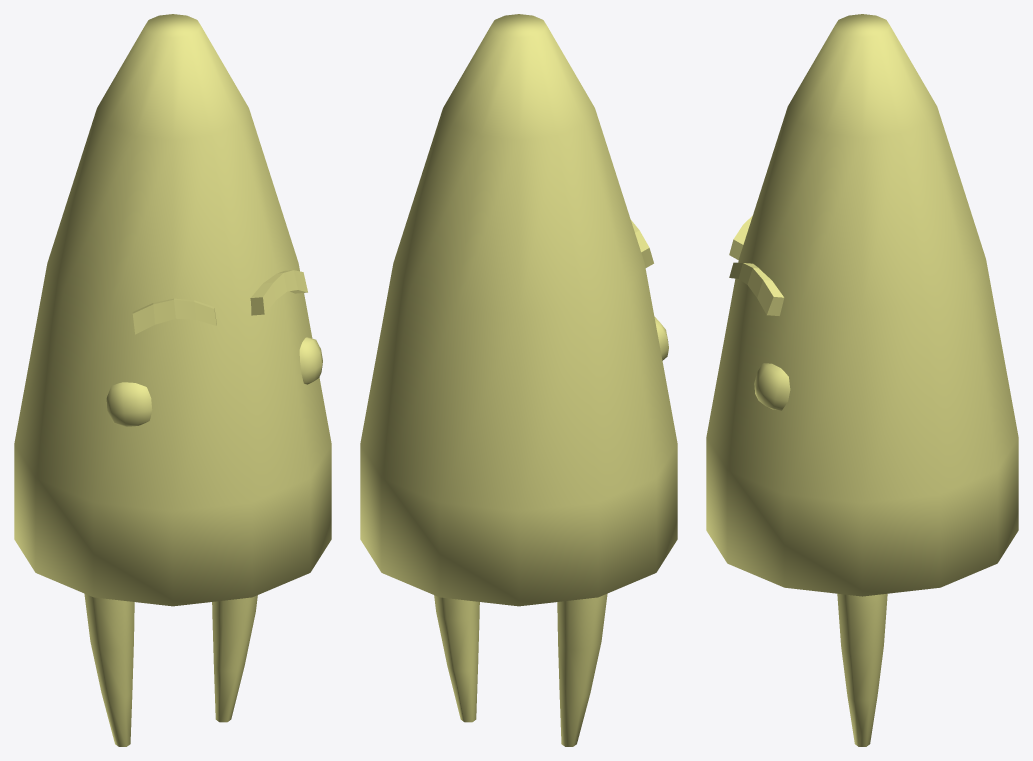
Rendered from chelik.fbx.
3 renders of one model, left to right at view 1: azimuth 30°, elevation 25°; view 2: azimuth 150°, elevation 25°; view 3: azimuth 270°, elevation 25°, orthographic.
Visible parts, largest first — view 1: Chelik, leg right, leg left; view 2: Chelik, leg right, leg left; view 3: Chelik, leg left.
Boxes of the visible parts, x1=… form: Chelik: x1=14, y1=14, x2=331, y2=606; leg right: x1=84, y1=593, x2=134, y2=746; leg left: x1=212, y1=595, x2=257, y2=722; Chelik: x1=360, y1=14, x2=677, y2=606; leg right: x1=557, y1=593, x2=607, y2=746; leg left: x1=434, y1=595, x2=479, y2=722; Chelik: x1=706, y1=14, x2=1018, y2=596; leg left: x1=837, y1=593, x2=887, y2=746.
Bounding box in the file's own units: 49.55 × 122 × 49.55.
